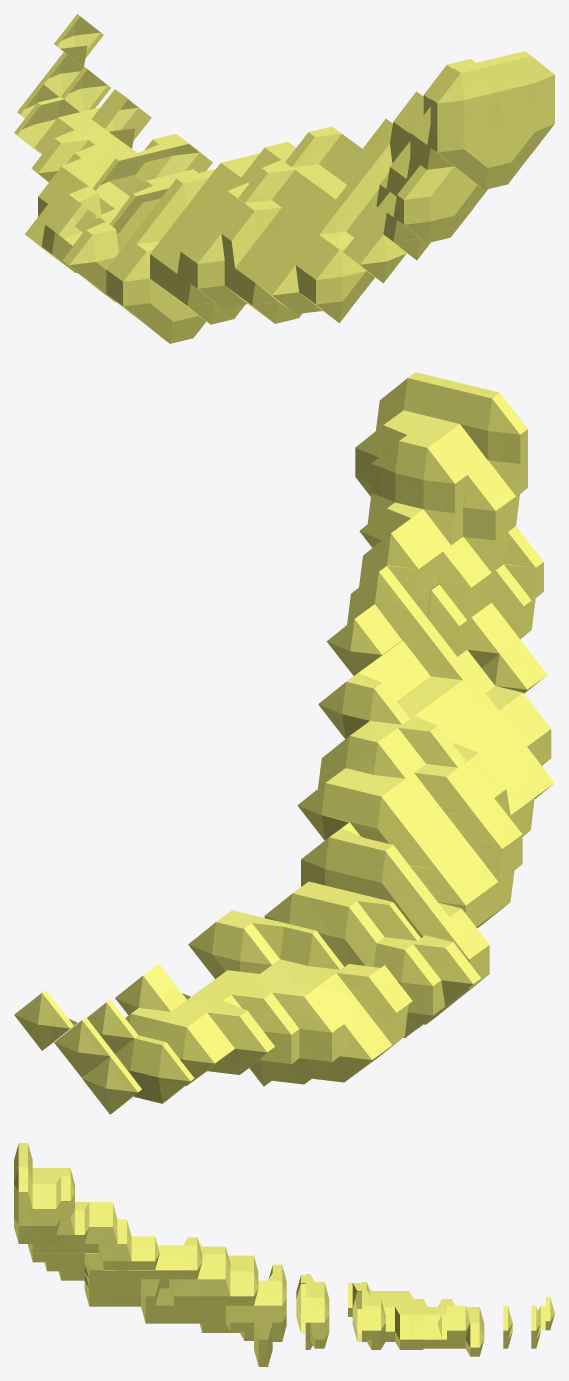
File: SVV_BWM-DL08.gltf
3 views of the same model, one above another, from view 1: azimuth 30°, elevation 25°; view 2: azimuth 150°, elevation 25°; view 3: azimuth 270°, elevation 25° (orthographic). The views are drawn at different scales.
Visible parts, largest first — view 1: BWM-DL08; view 2: BWM-DL08; view 3: BWM-DL08.
Part boxes in pixels (<box>): BWM-DL08: <box>14,14,554,343</box>; BWM-DL08: <box>14,372,554,1114</box>; BWM-DL08: <box>14,1143,554,1366</box>.
Bounding box in the file's own units: 6144 × 7676 × 14727.
